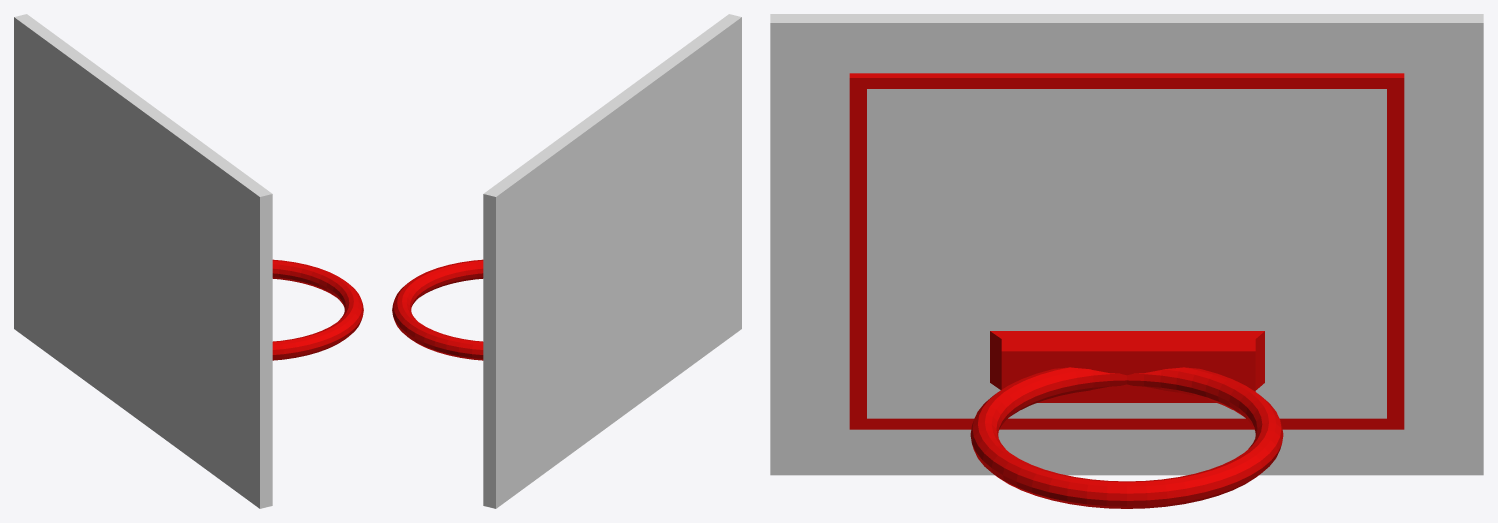
File: basketball_hoop.fbx
3 views of the same model, side by side, from view 1: azimuth 30°, elevation 25°; view 2: azimuth 150°, elevation 25°; view 3: azimuth 270°, elevation 25° (orthographic). The views are drawn at different scales.
Visible parts, largest first — view 1: Cube.056, Cube.053, Torus; view 2: Cube.056, Cube.053, Torus; view 3: Cube.053, Cube.055, Torus, Cube.054, Cube.056.
Boxes of the visible parts, box(x1,y1,x2,y2) form: Cube.056: box(14, 17, 272, 508); Cube.053: box(14, 14, 272, 432); Torus: box(272, 259, 363, 360); Cube.056: box(483, 14, 741, 508); Cube.053: box(483, 88, 637, 508); Torus: box(392, 259, 483, 360); Cube.053: box(770, 14, 1483, 475); Cube.055: box(849, 73, 1404, 429); Torus: box(970, 367, 1283, 508); Cube.054: box(990, 331, 1264, 402); Cube.056: box(770, 14, 1131, 22).
Bounding box in the file's own units: 499 × 700 × 1000.
